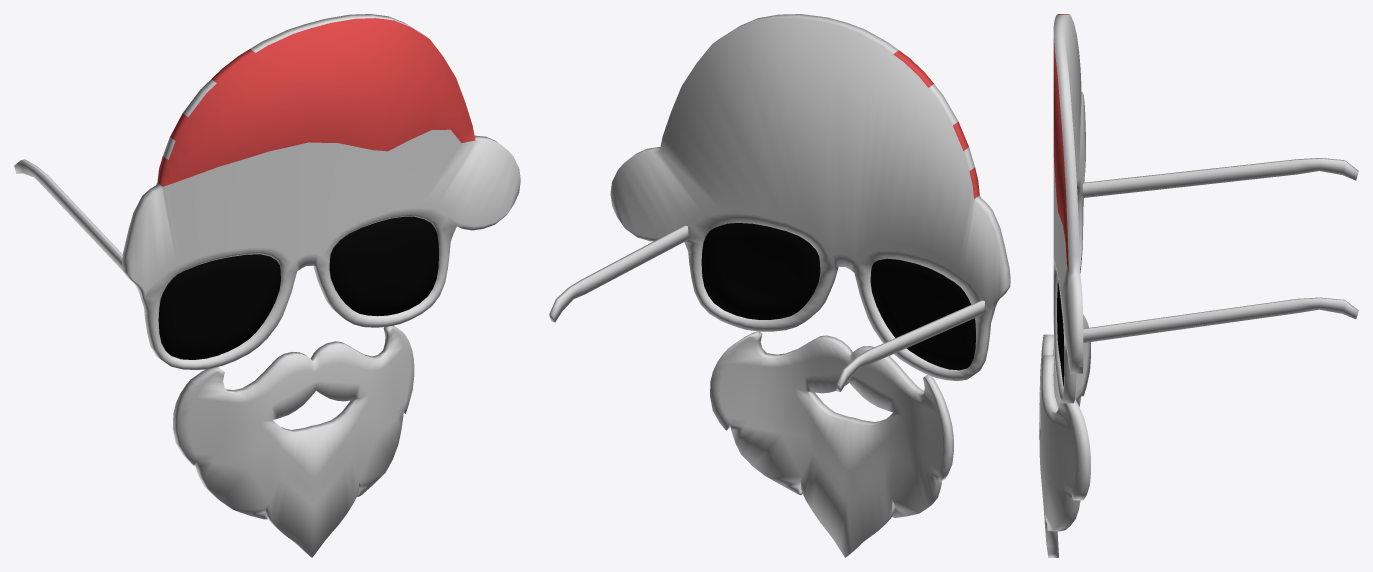
The model's file is santaMask.glb.
3 views of the same model, side by side, from view 1: azimuth 30°, elevation 25°; view 2: azimuth 150°, elevation 25°; view 3: azimuth 270°, elevation 25° (orthographic).
Parts seen in each view (by area): view 1: Mask_Blue; view 2: Mask_Blue; view 3: Mask_Blue.
Part boxes in pixels (box(x1,y1,x2,y2)): Mask_Blue: box(14, 14, 520, 557); Mask_Blue: box(549, 14, 1010, 557); Mask_Blue: box(1039, 14, 1358, 557).
Bounding box in the file's own units: 0.2096 × 0.2699 × 0.1469.
